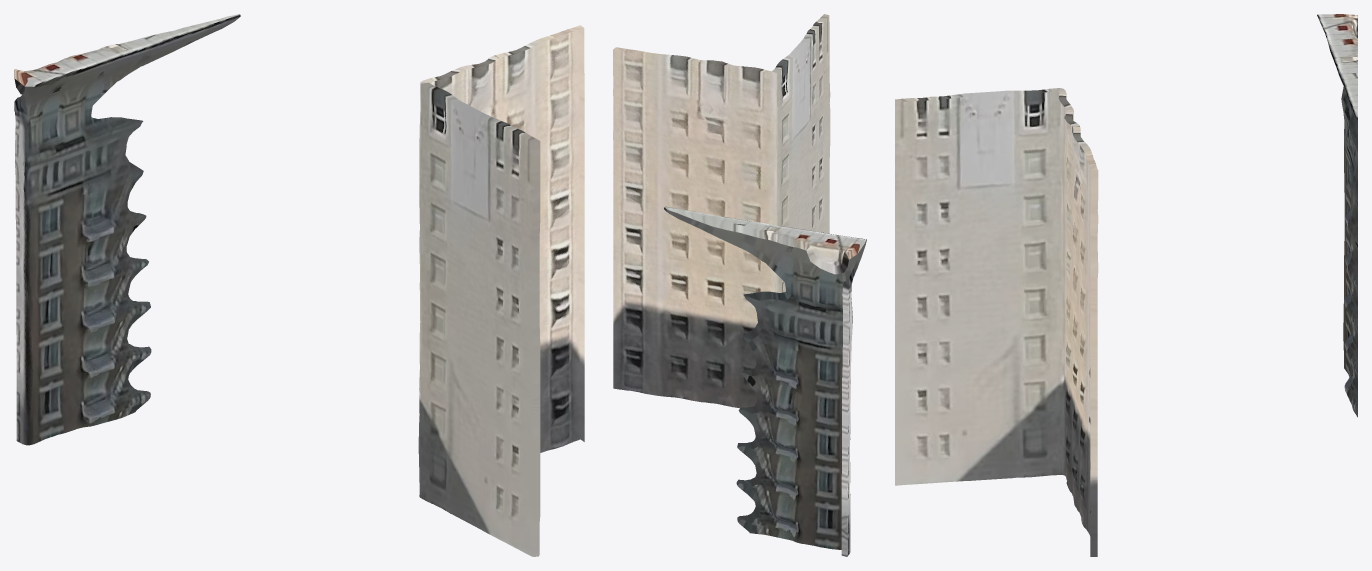
The model's file is z20-167747-405245-h1-yup-uvflip-v3-world.glb.
3 renders of one model, left to right at view 1: azimuth 30°, elevation 25°; view 2: azimuth 150°, elevation 25°; view 3: azimuth 270°, elevation 25°, orthographic. The views are drawn at different scales.
Bounding box in the file's own units: 30.16 × 28.04 × 30.32.
1 material, 1 textured.
